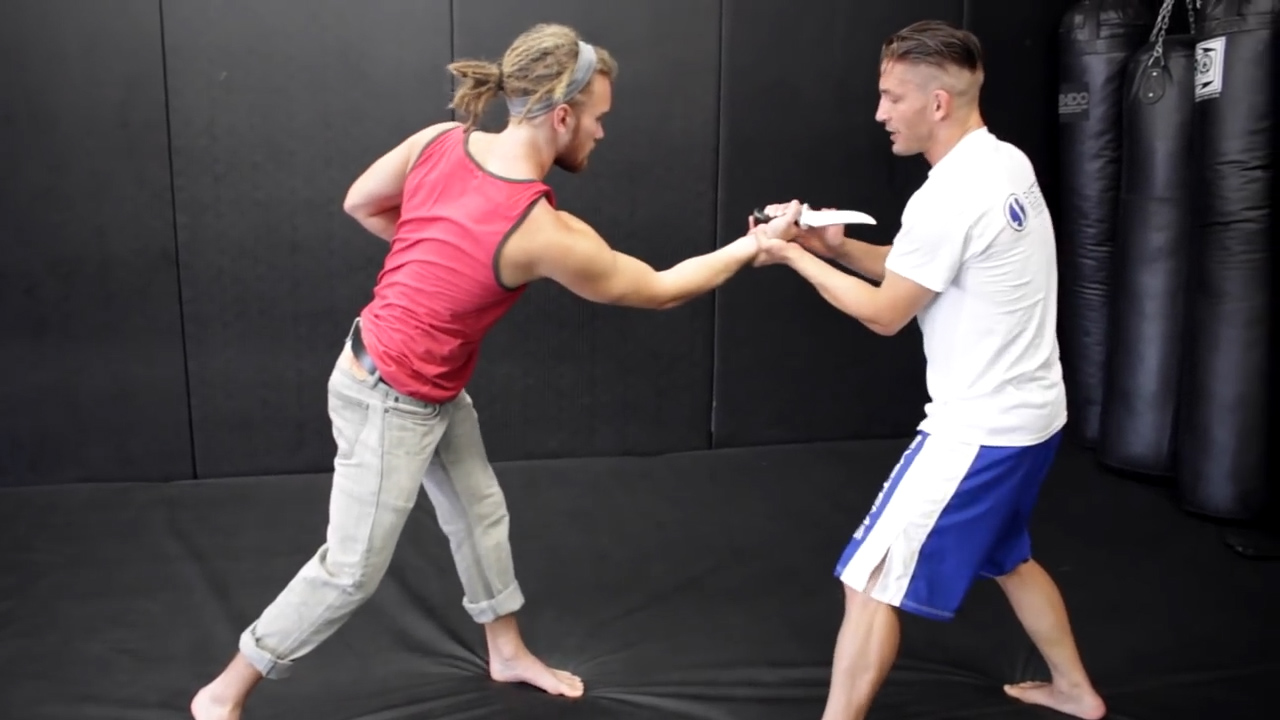knife: (738, 185, 891, 239)
